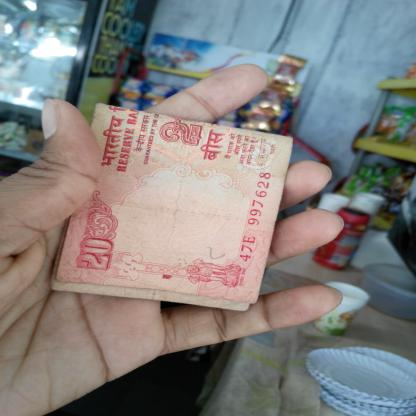Old20Front: (79, 112, 280, 296)
